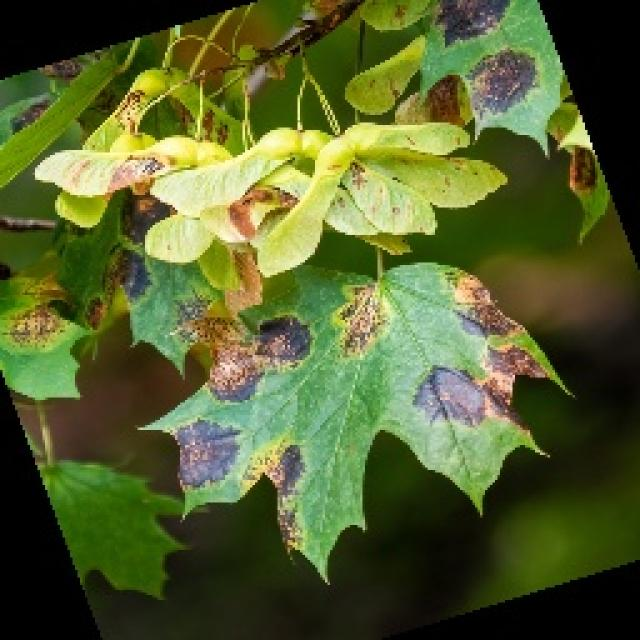Tar_Spot: (177, 44, 616, 579)
